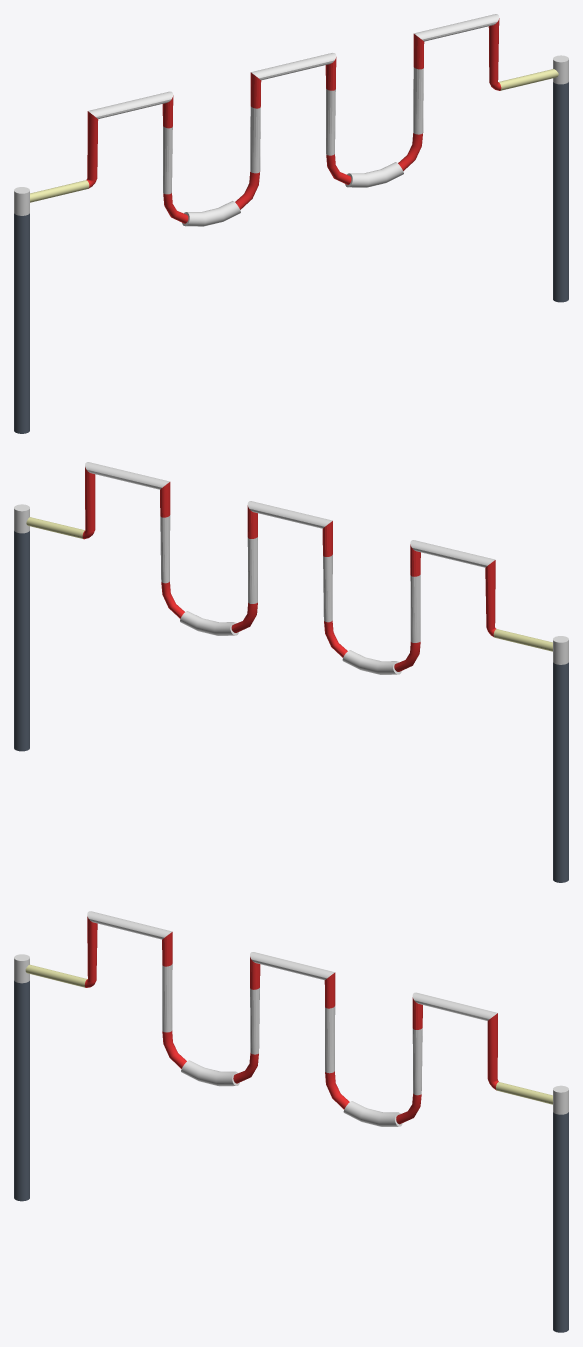
3 renders of one model, top to bottom at view 1: azimuth 30°, elevation 25°; view 2: azimuth 150°, elevation 25°; view 3: azimuth 330°, elevation 25°, orthographic.
Visible parts, largest first — view 1: pTorus6, pCylinder16, pCylinder17; view 2: pTorus6, pCylinder16, pCylinder17; view 3: pTorus6, pCylinder17, pCylinder16.
Boxes of the visible parts, x1,y1,x2,y2 form: pTorus6: [30, 14, 558, 226]; pCylinder16: [14, 187, 29, 433]; pCylinder17: [553, 55, 568, 302]; pTorus6: [26, 462, 552, 674]; pCylinder16: [553, 636, 568, 882]; pCylinder17: [14, 504, 29, 751]; pTorus6: [25, 911, 553, 1126]; pCylinder17: [553, 1085, 568, 1332]; pCylinder16: [14, 954, 29, 1201].
Size of the model in its own units: 18.2 by 9.52 by 0.46.
